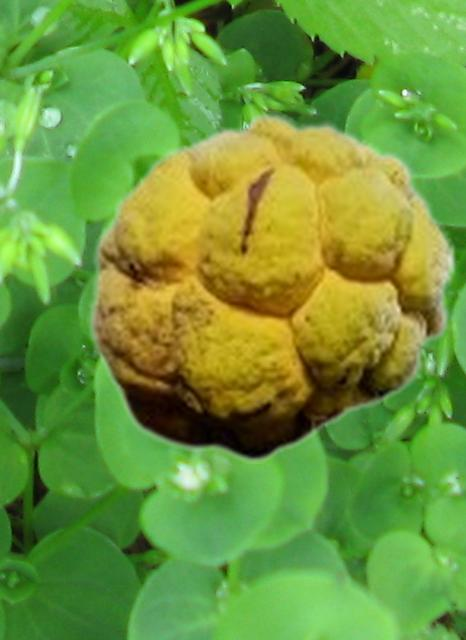atis: (86, 111, 456, 462)
